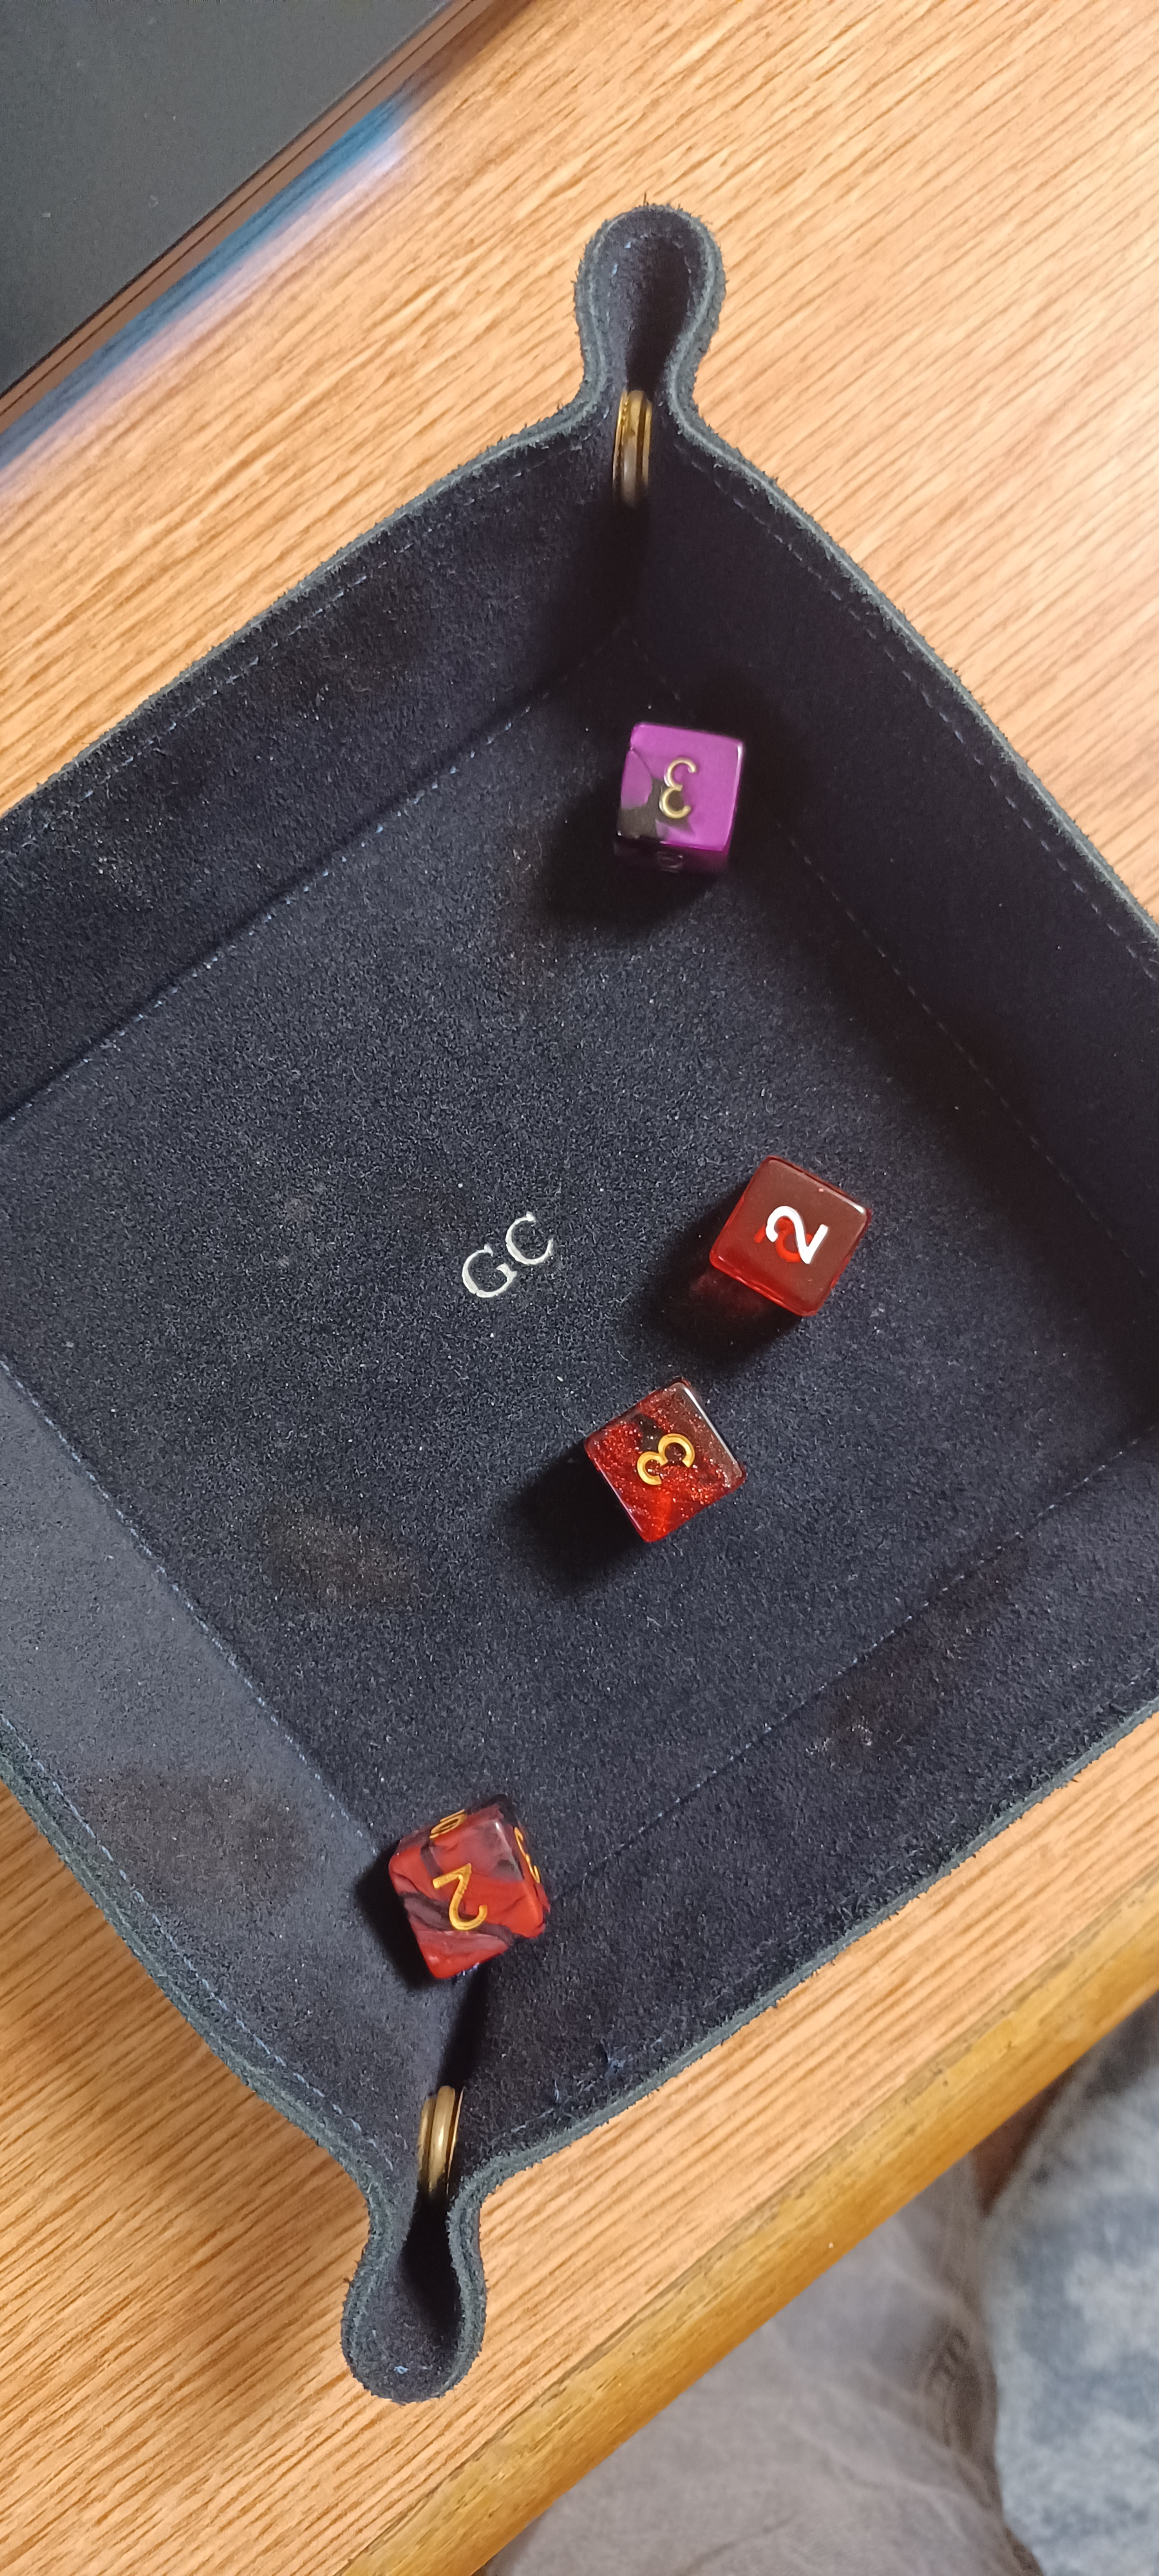three: (519, 1360, 801, 1579), (566, 660, 780, 892)
two: (658, 1109, 891, 1375), (335, 1779, 583, 2021)
